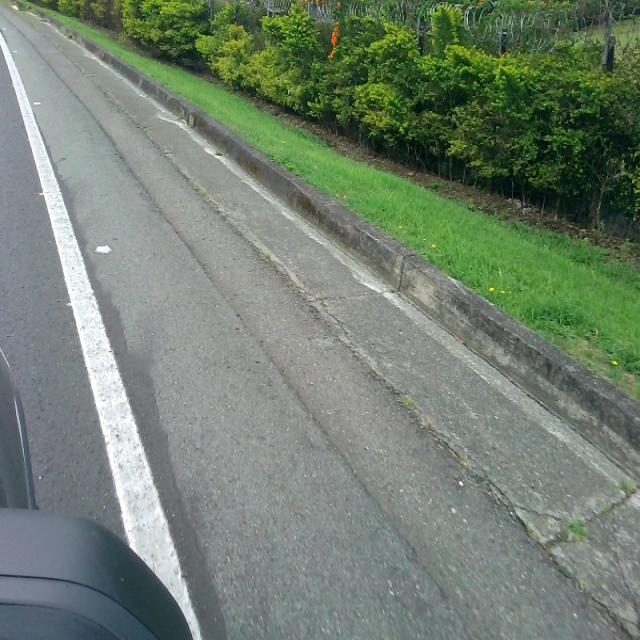DITCH: (2, 5, 638, 638)
